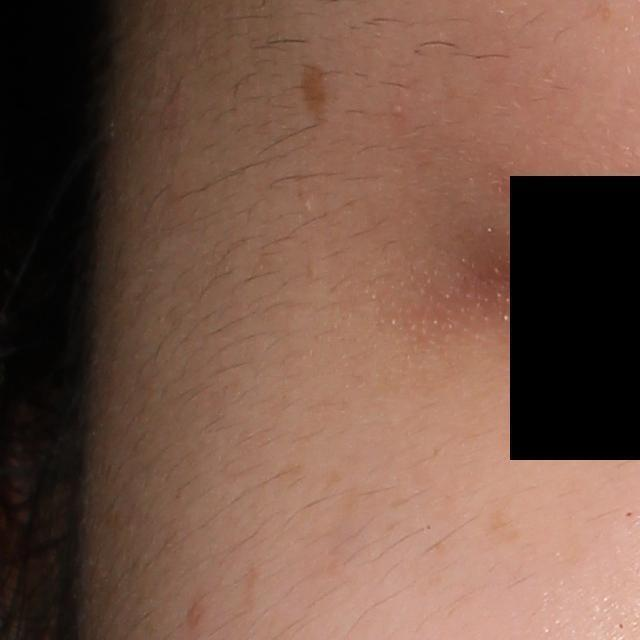melasma: (482, 502, 532, 547), (299, 65, 329, 127)
